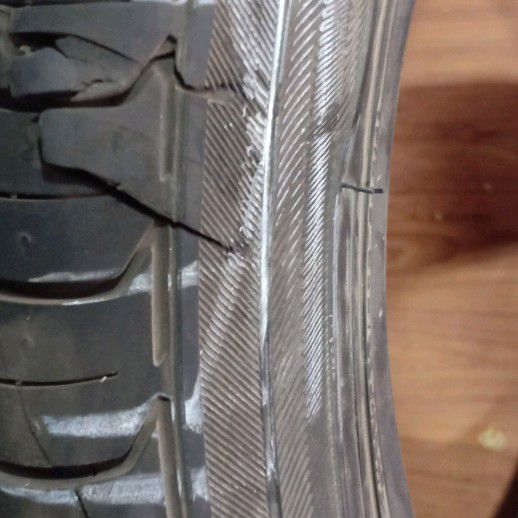tr: (30, 30, 258, 267)
